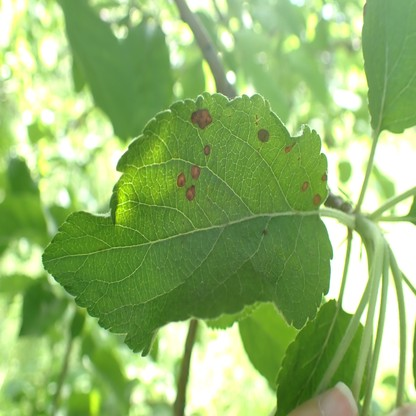frogeye_leaf_spot: (191, 108, 212, 129), (256, 128, 271, 142), (283, 141, 299, 153), (186, 185, 195, 201), (177, 173, 186, 188), (191, 166, 200, 180), (314, 194, 321, 205), (302, 180, 308, 192), (205, 145, 210, 156), (322, 173, 328, 182)
